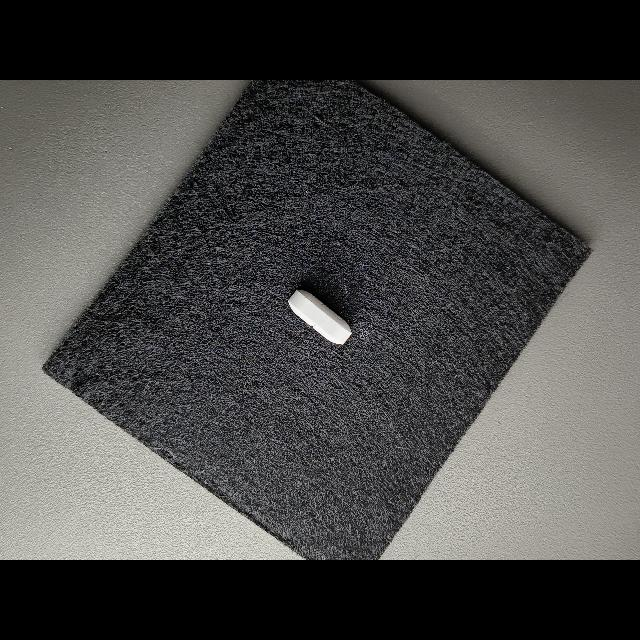Intact Pill: (288, 290, 352, 345)
